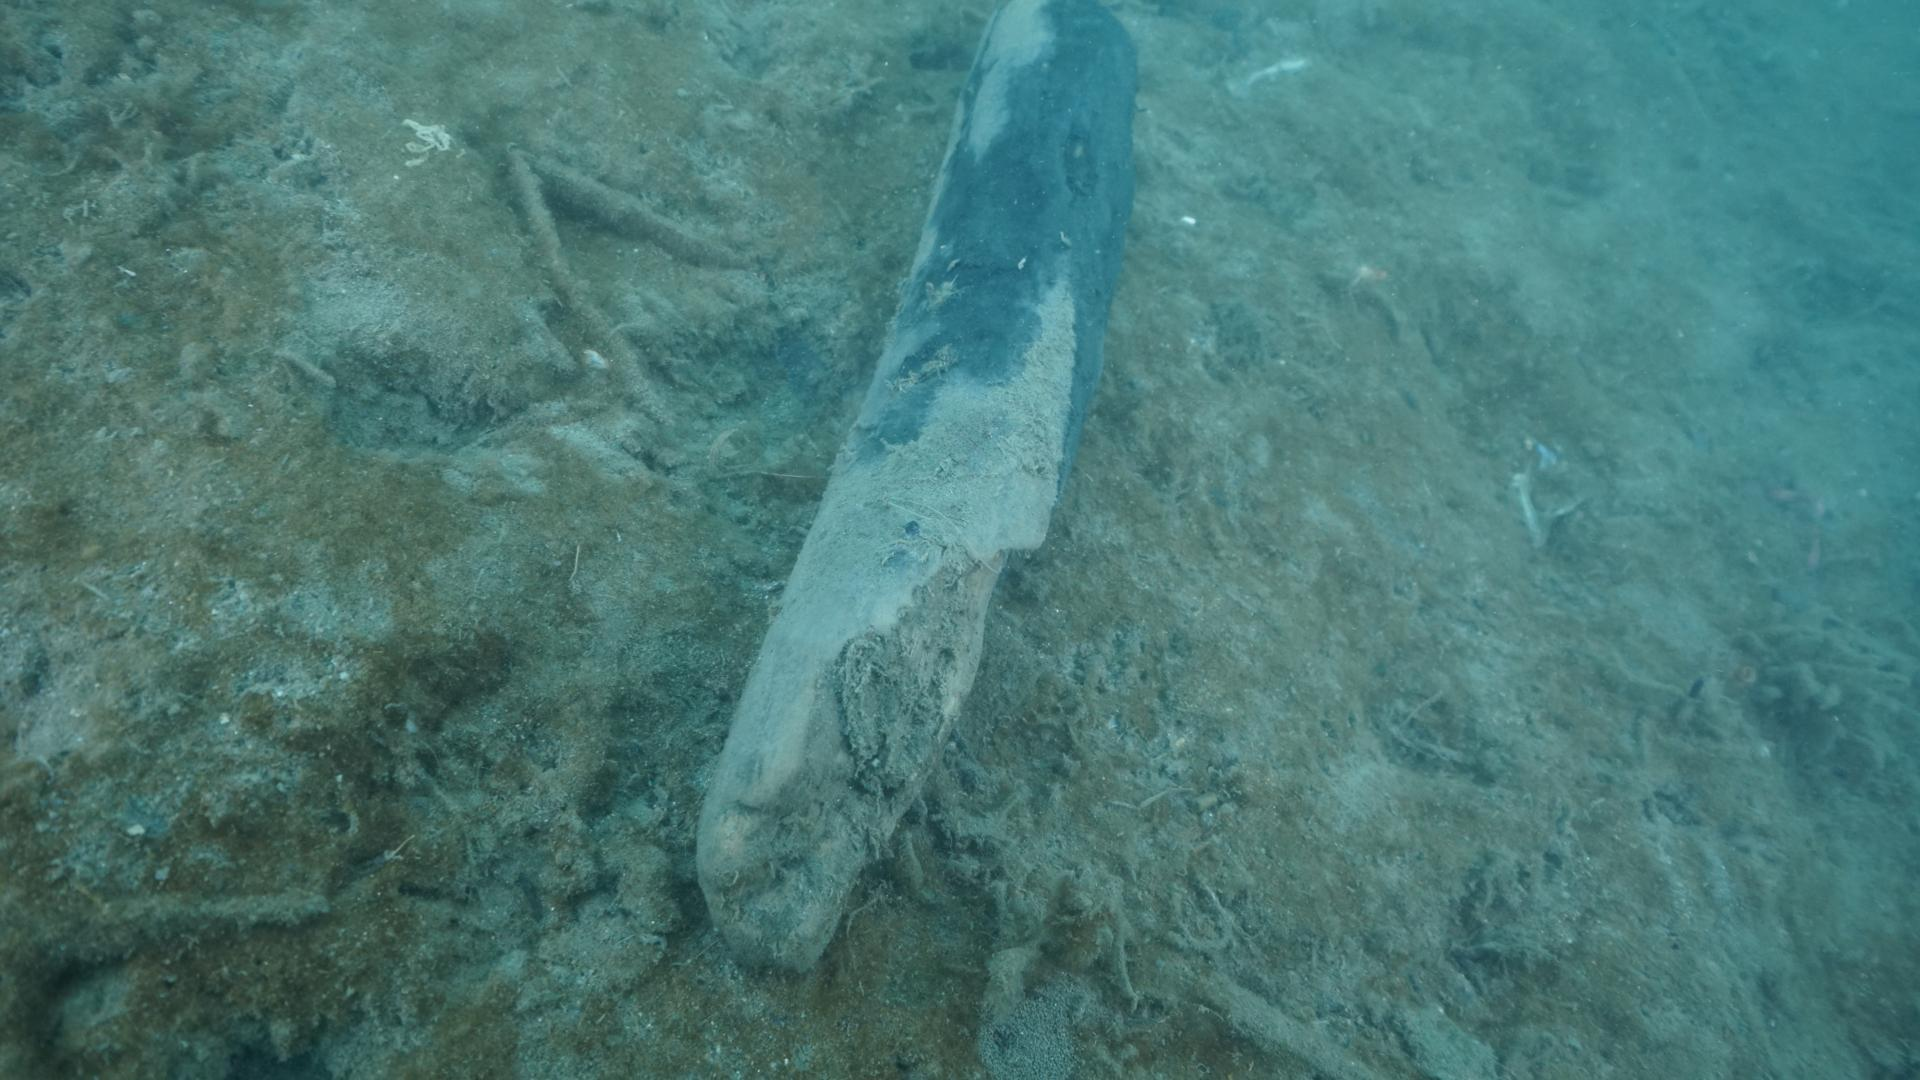wood: (694, 0, 1145, 977)
